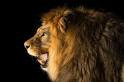lion: (25, 8, 124, 79)
